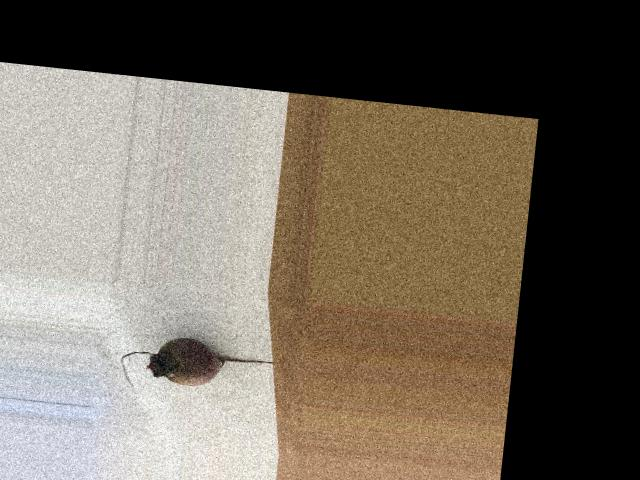beet: (119, 331, 278, 400)
